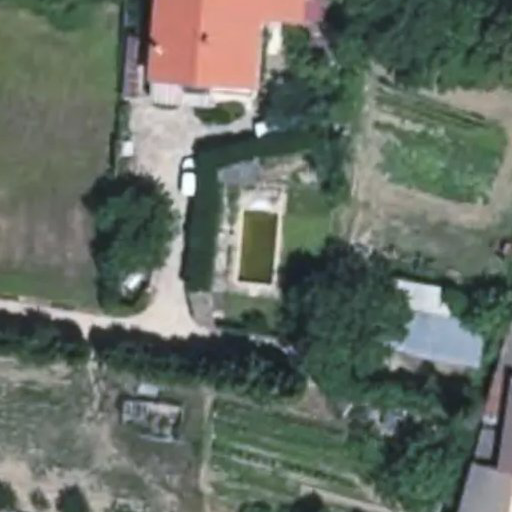pool: (235, 204, 281, 286)
